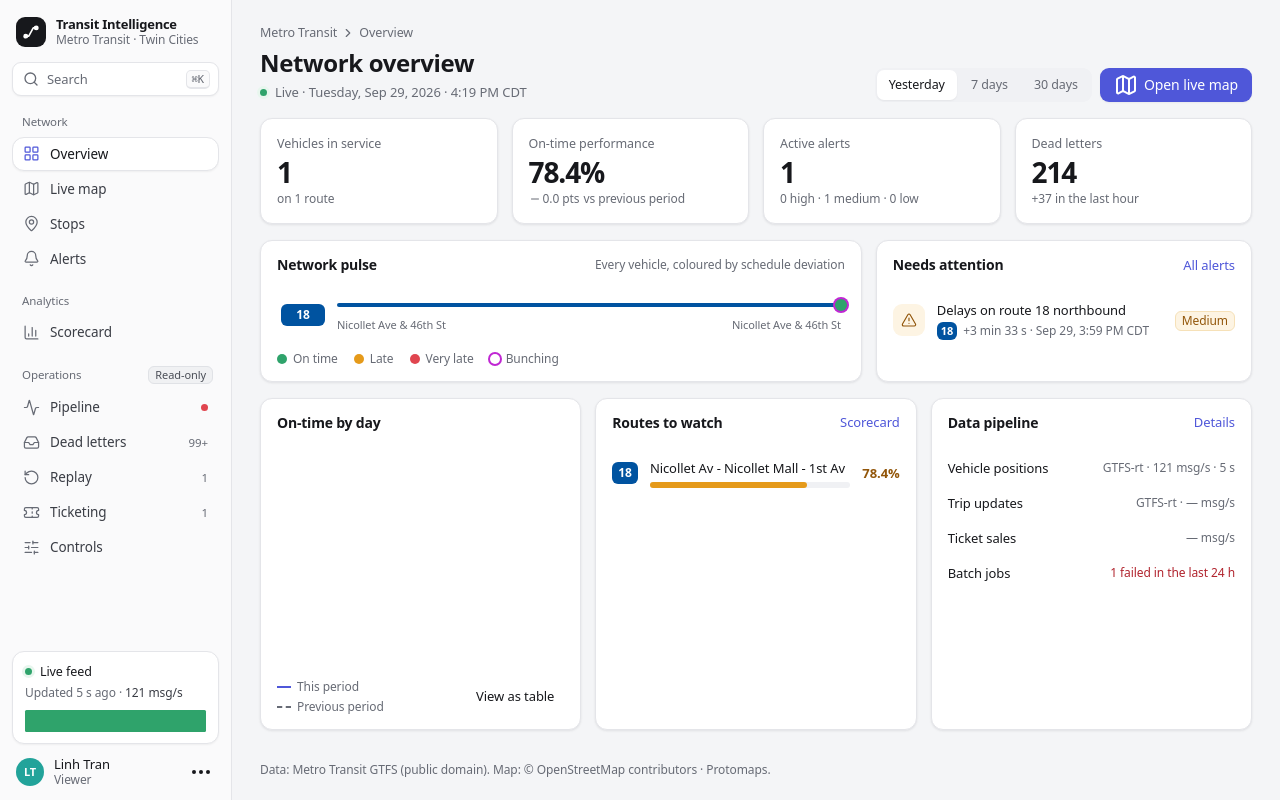
Scenario: account menu › opens the keyboard shortcuts
Click the button named "Account menu": click(201, 772) [187,758,215,786]
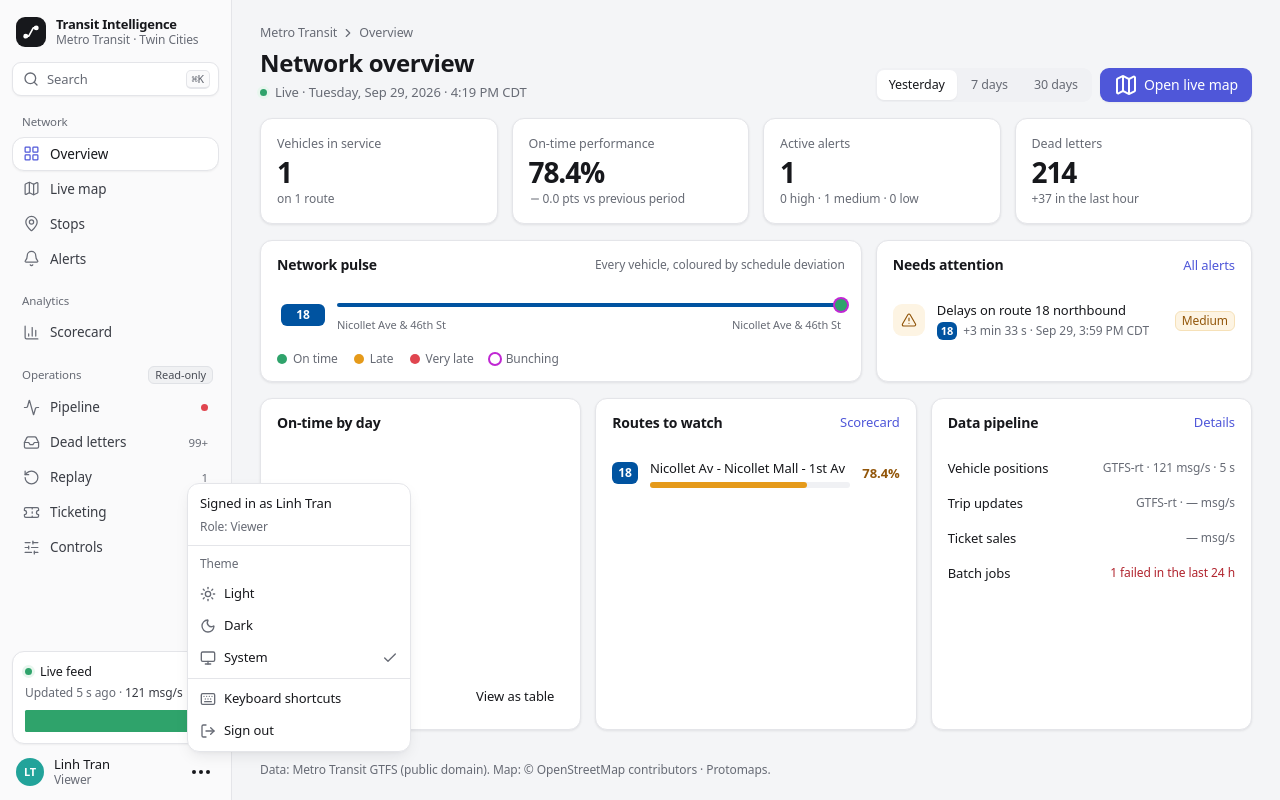
Click the menu item "Keyboard shortcuts": click(271, 698) [200,690,341,708]
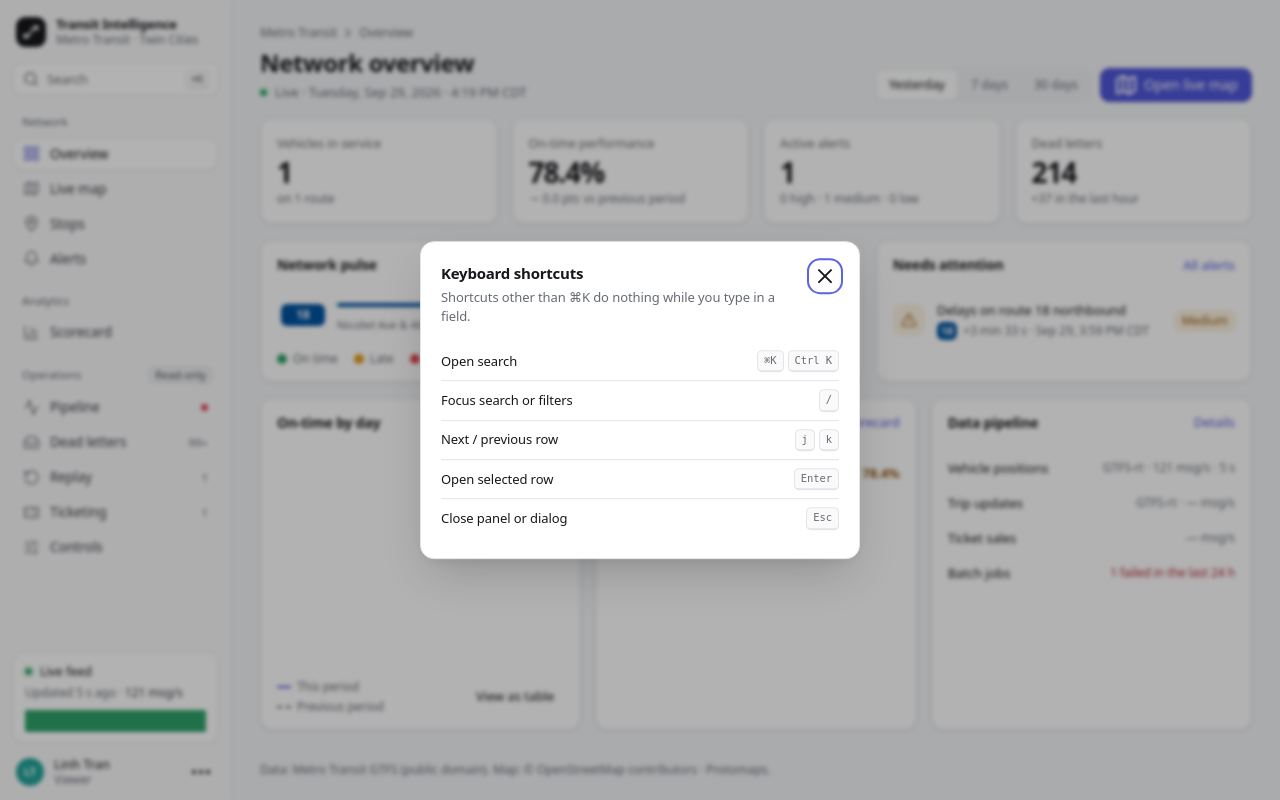
Expected: the text "Focus search or filters" is shown, [441,391,573,410]
